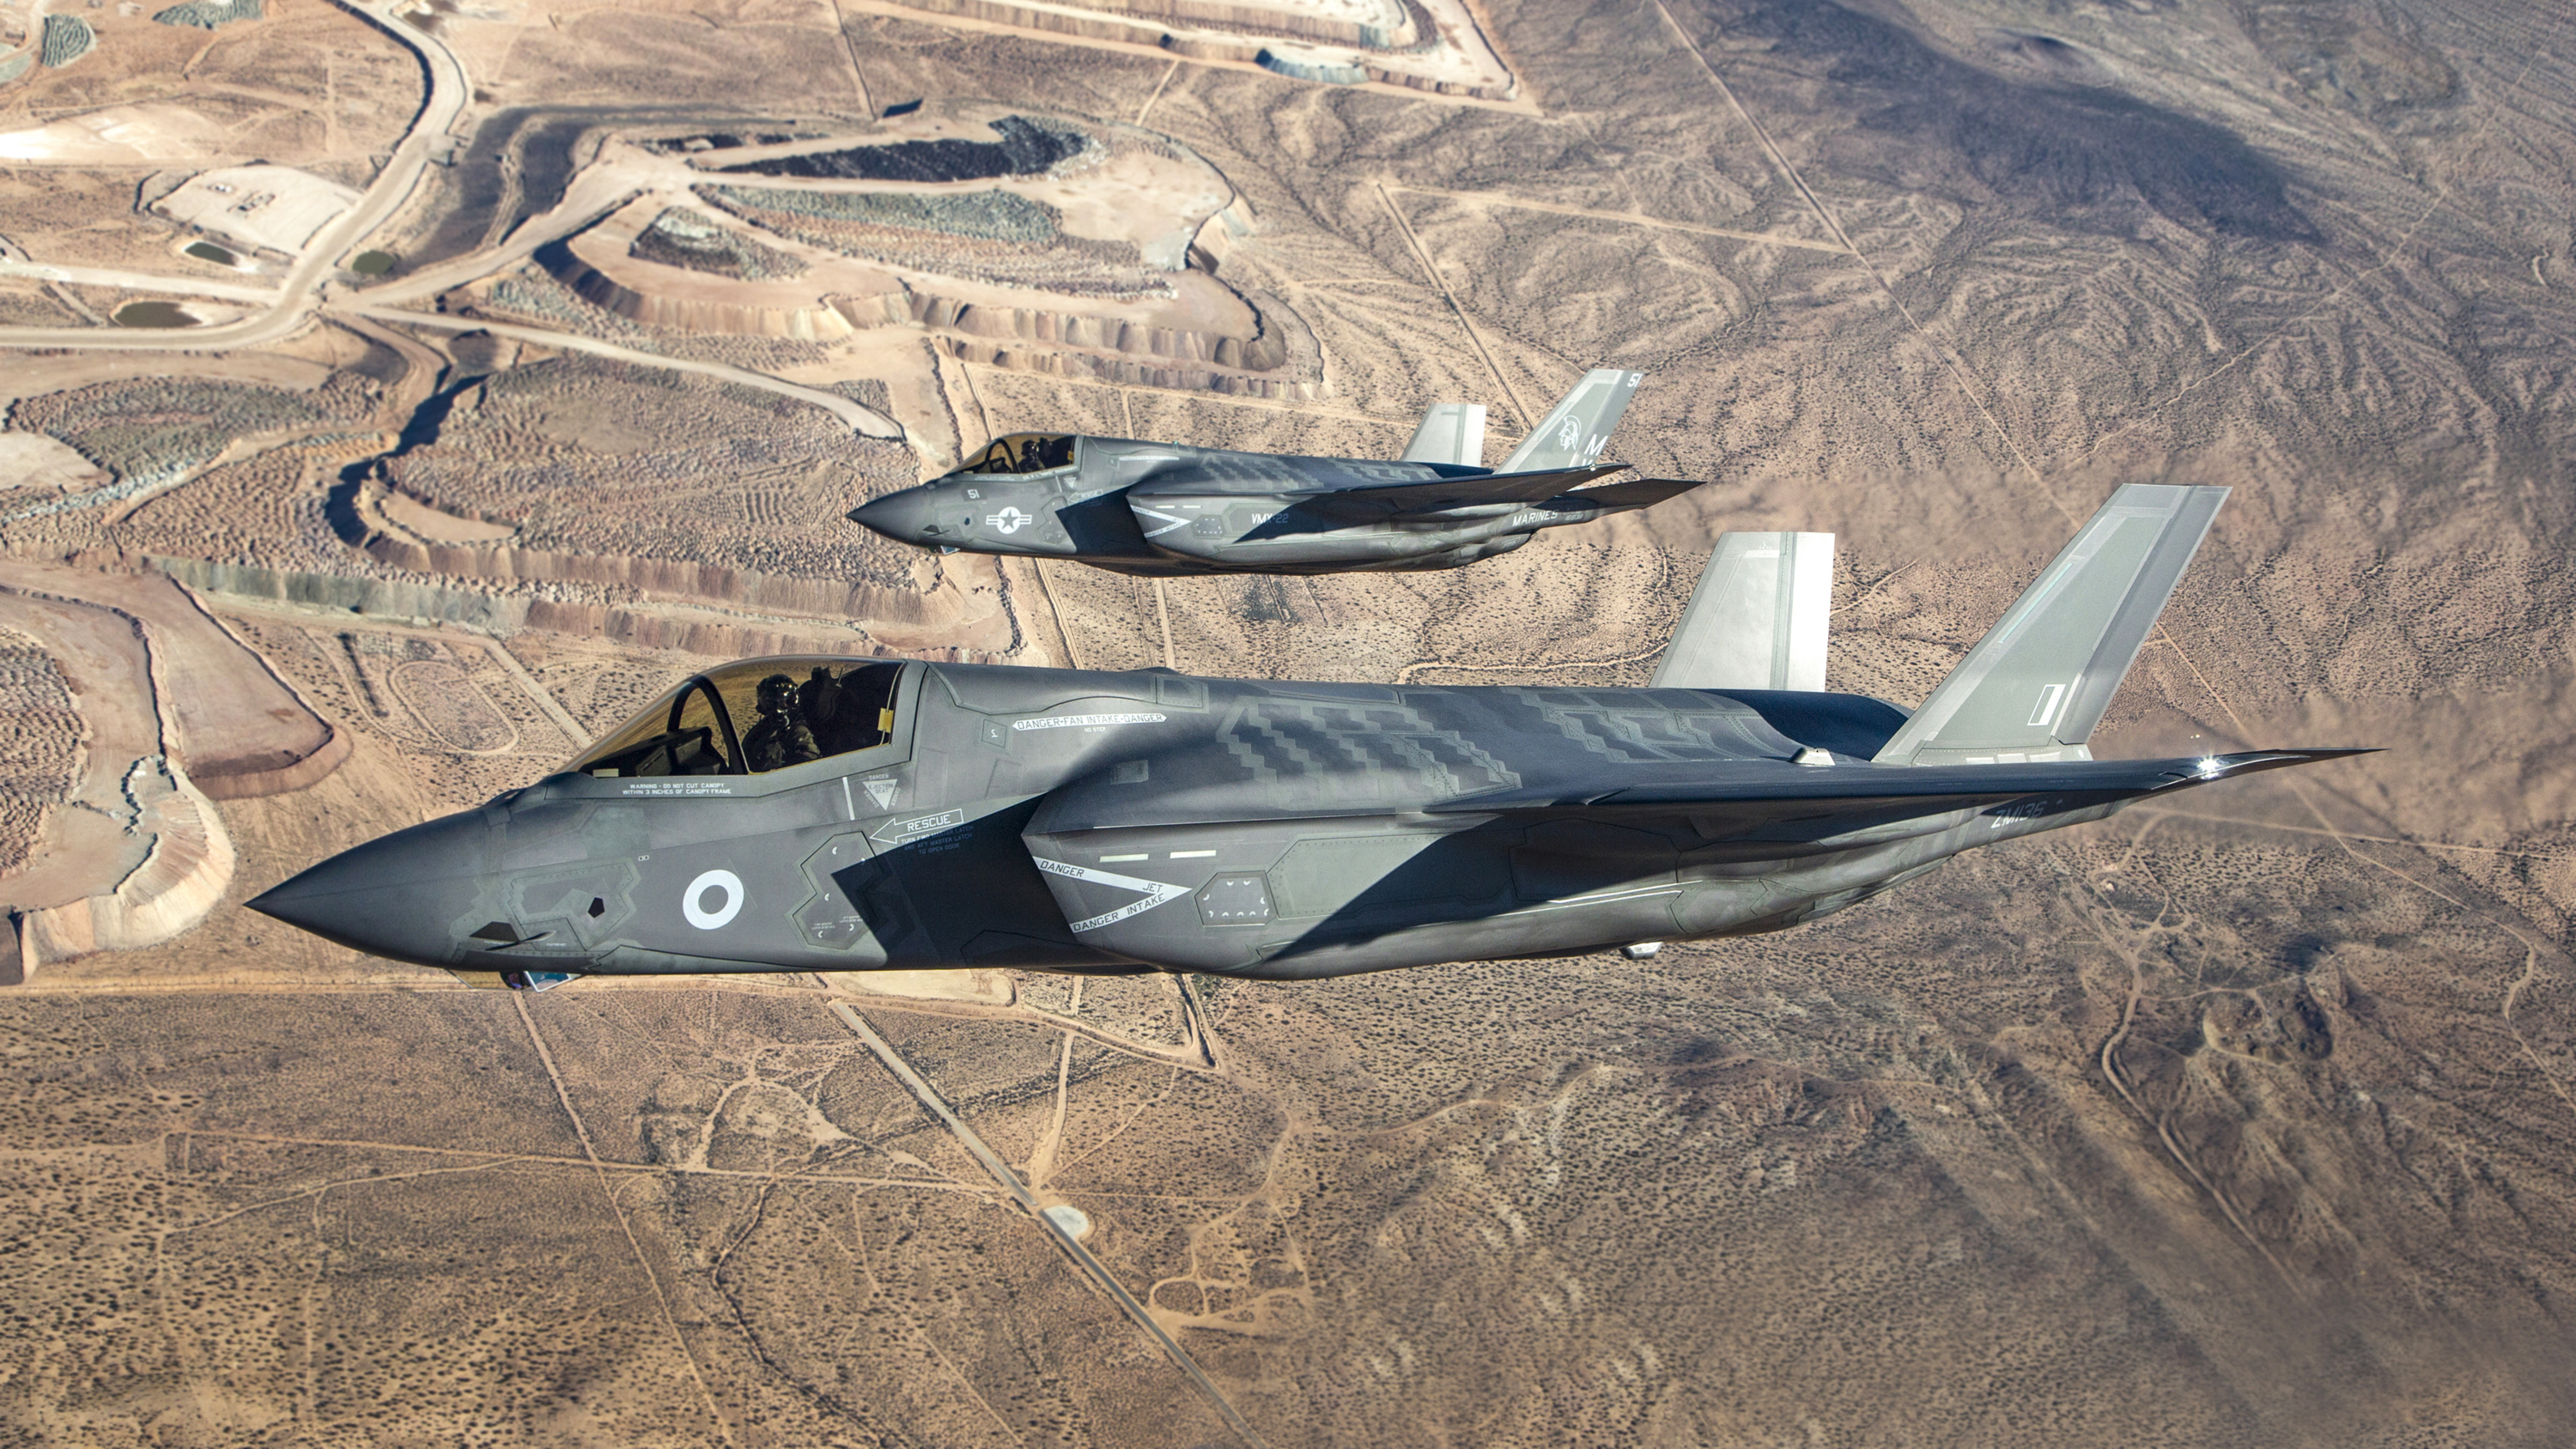F35: (230, 479, 2408, 1001), (828, 361, 1720, 582)
